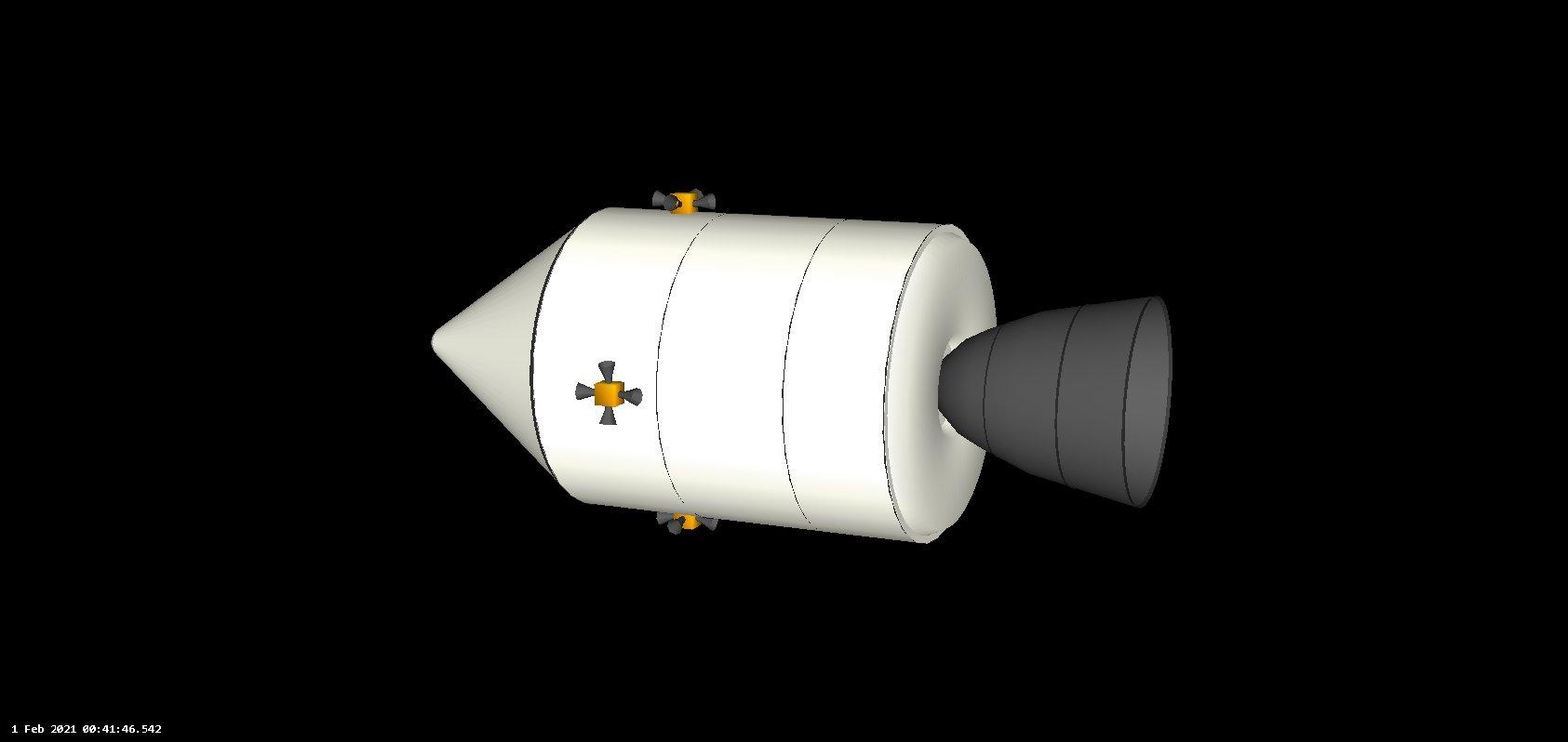body: (430, 203, 999, 544)
thruster: (934, 291, 1174, 510), (597, 359, 617, 386), (617, 387, 644, 407), (597, 404, 619, 426), (573, 381, 596, 401), (693, 192, 717, 210), (694, 515, 719, 531), (663, 192, 684, 211), (666, 516, 685, 536), (654, 509, 676, 526), (650, 188, 668, 207), (689, 186, 705, 203)
